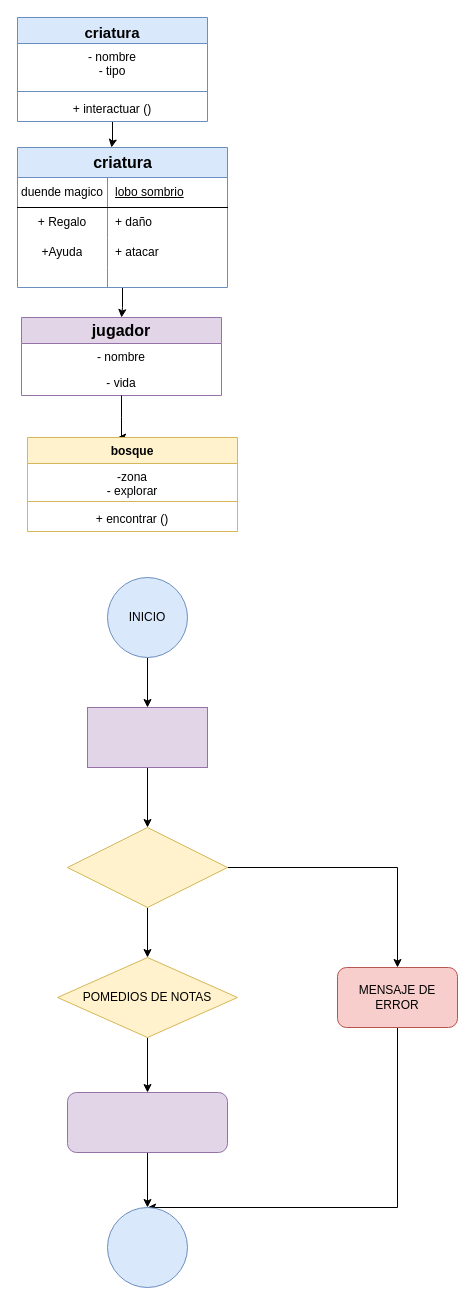
The diagram is 475 pixels wide and 1305 high, and some of its shapes have lost their labels. The shapes that lost their labels are listed below. From the top down, each one's centre as x and y in pixels, then its label:
At (147,737): "INGRESO DE NOTAS".
At (147,867): "INGRESO DE 5 NOTAS".
At (147,1122): "CANTIDAD DE NOTAS Y PROMEDIO".
At (147,1247): "FIN".
